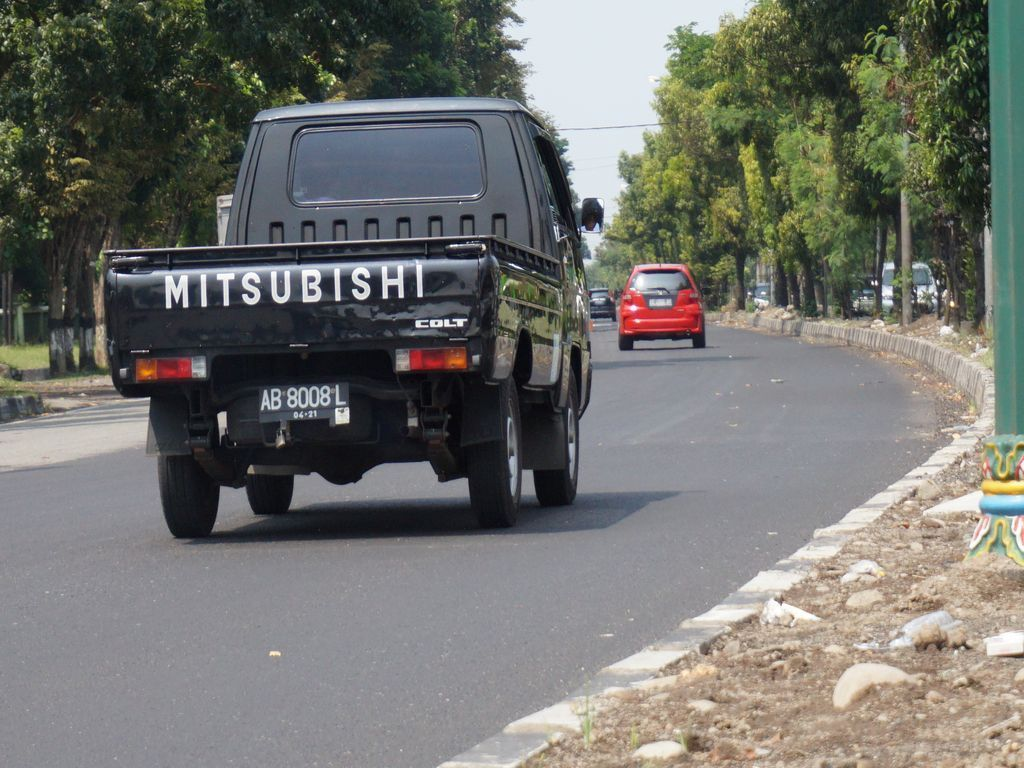plate: (262, 386, 346, 416)
